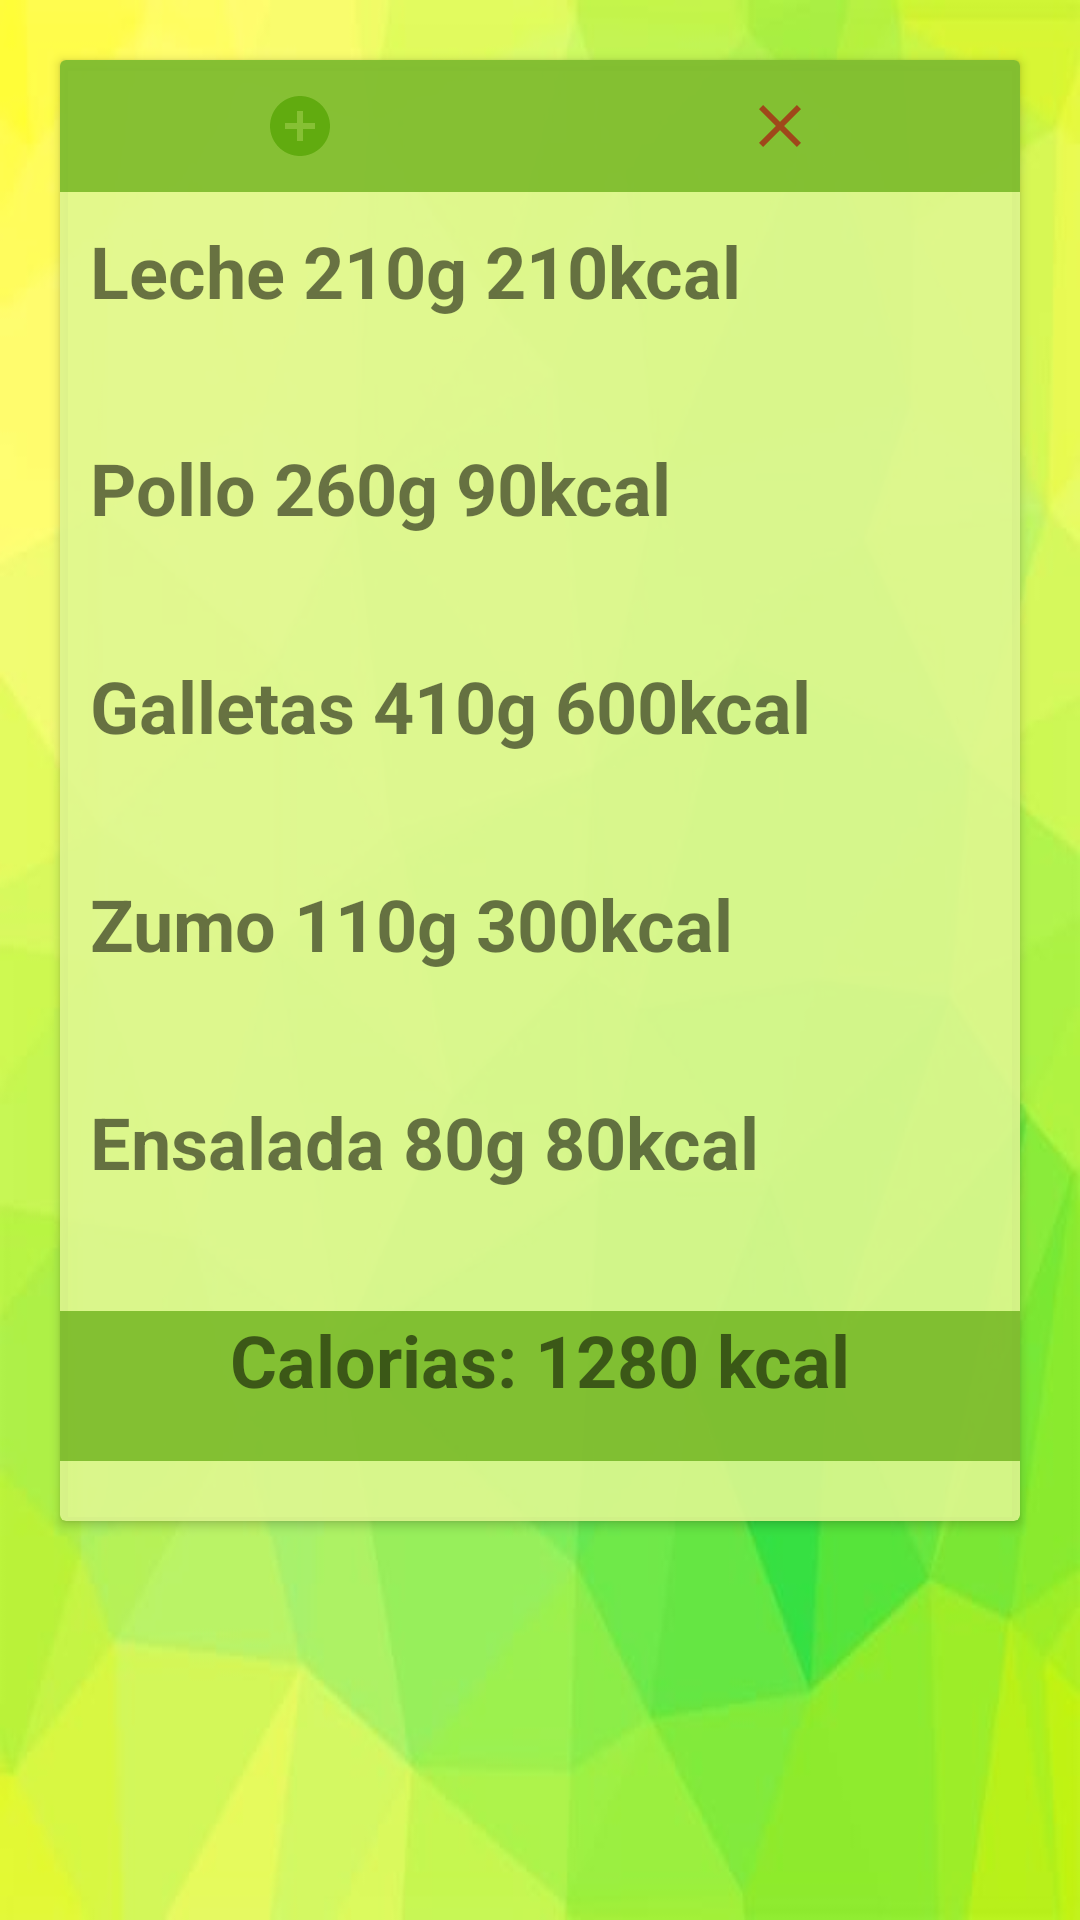

Where icons sit on this 1080px×1920px app screen, as box(x1, y1, x2, y2):
add circle: box(270, 96, 330, 156)
clear: box(759, 105, 801, 147)
